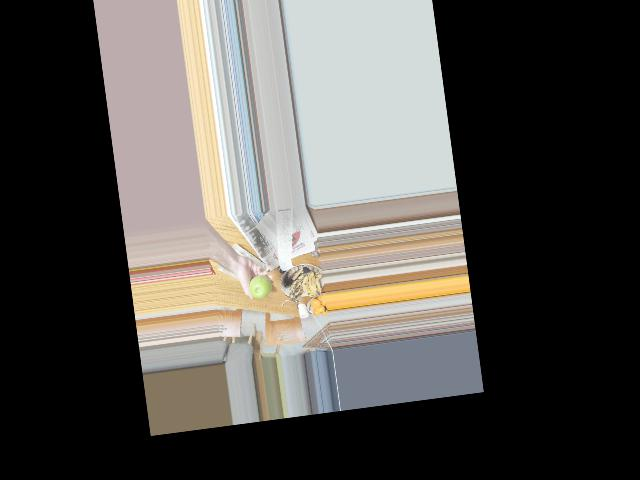apple: (245, 273, 274, 300)
